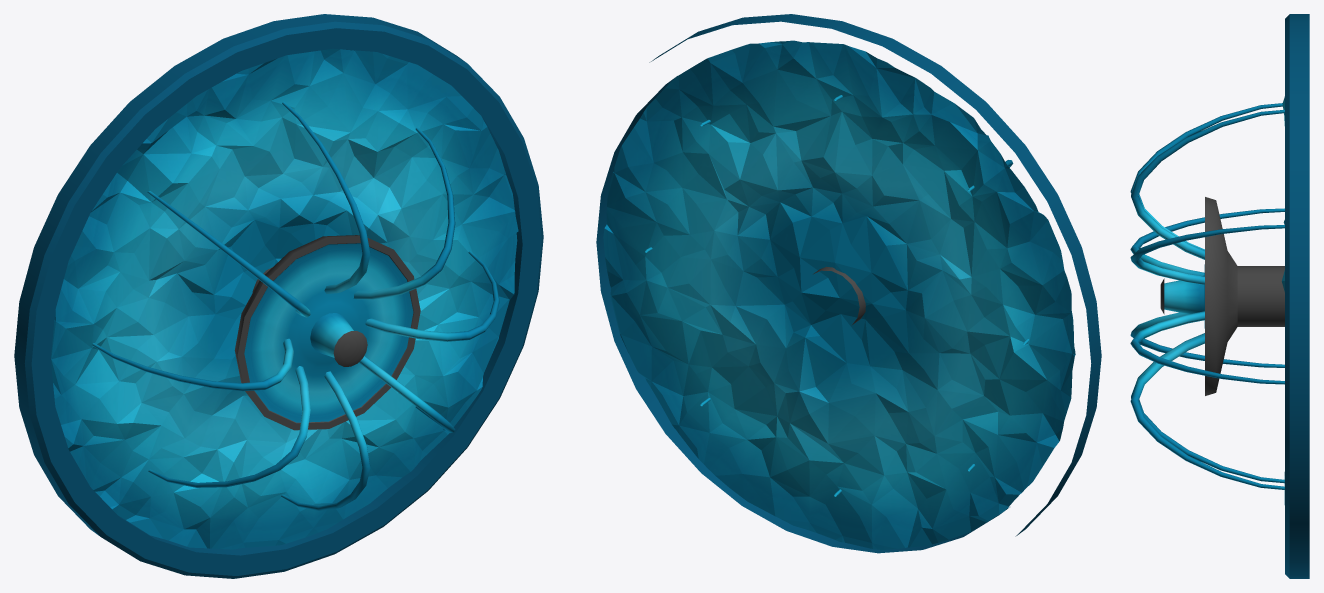
File: fountain.glb
The picture shows the model from 3 angles, left to right: view 1: azimuth 30°, elevation 25°; view 2: azimuth 150°, elevation 25°; view 3: azimuth 270°, elevation 25°; orthographic projection. The views are drawn at different scales.
Visible parts, largest first — view 1: fountain; view 2: fountain; view 3: fountain.
Boxes of the visible parts, left/top/right/bottom form: fountain: left=14, top=14, right=543, bottom=578; fountain: left=596, top=14, right=1101, bottom=553; fountain: left=1130, top=14, right=1309, bottom=578.
Bounding box in the file's own units: 6.73 × 6.73 × 2.13.
Materials: 3 (1 with a texture image).
